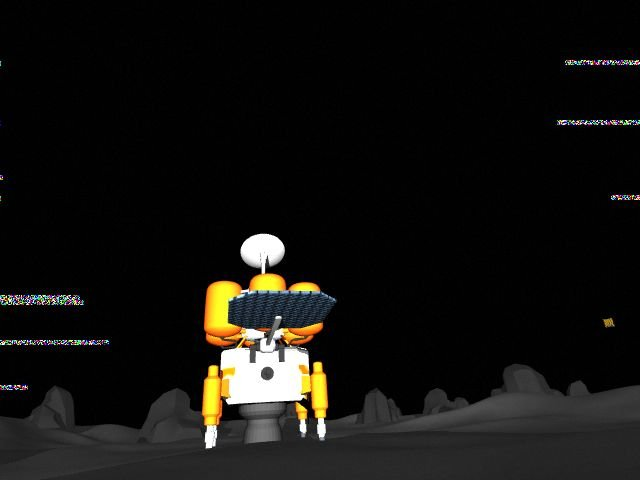homebase: (199, 232, 339, 450)
